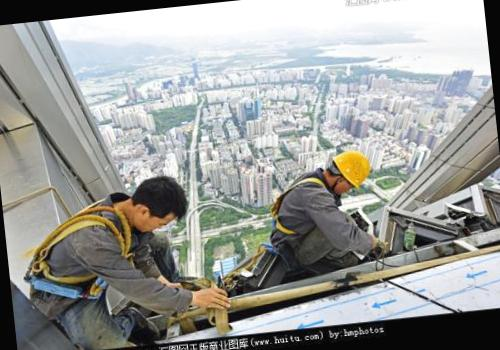no_helmet: (114, 171, 198, 239)
